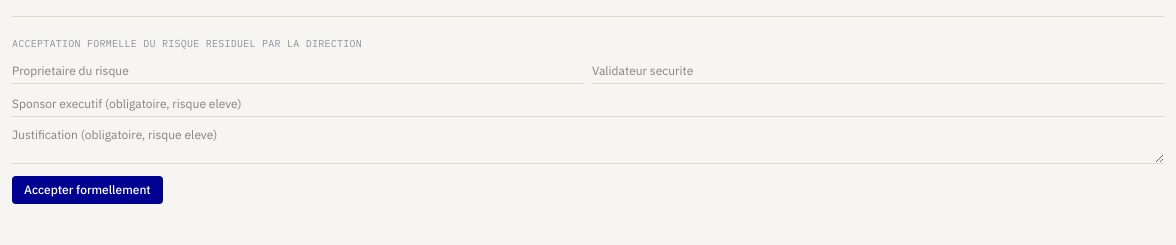
AcceptationFormelleSection › exige un sponsor executif et une justification quand le risque residuel est Eleve
Expected: the field with placeholder "Sponsor executif (obligatoire, risque eleve)" is shown, [12,92,1164,117]
Expected: the text box with placeholder "Justification (obligatoire, risque eleve)" is shown, [12,123,1164,164]
Type "Direction generale" into the field with placeholder "Proprietaire du risque" at (298, 72), box [12,59,584,84]
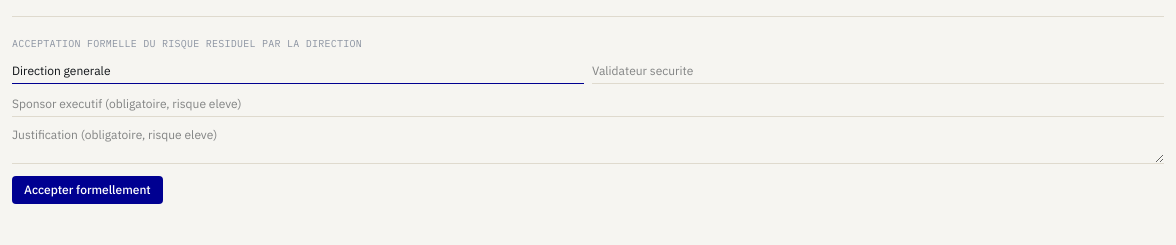
Type "RSSI" into the field with placeholder "Validateur securite" at (878, 72), box [592,59,1164,84]
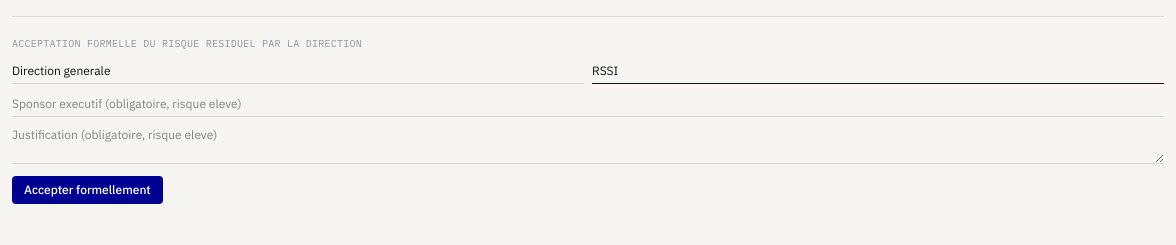
Click the button "Accepter formellement" at (87, 190), box [12,176,163,204]
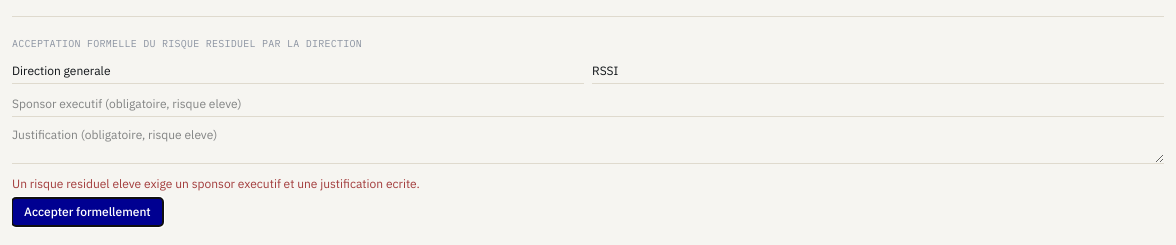
Result: the text "sponsor executif et une justification ecrite" is shown at [12,176,420,191]
